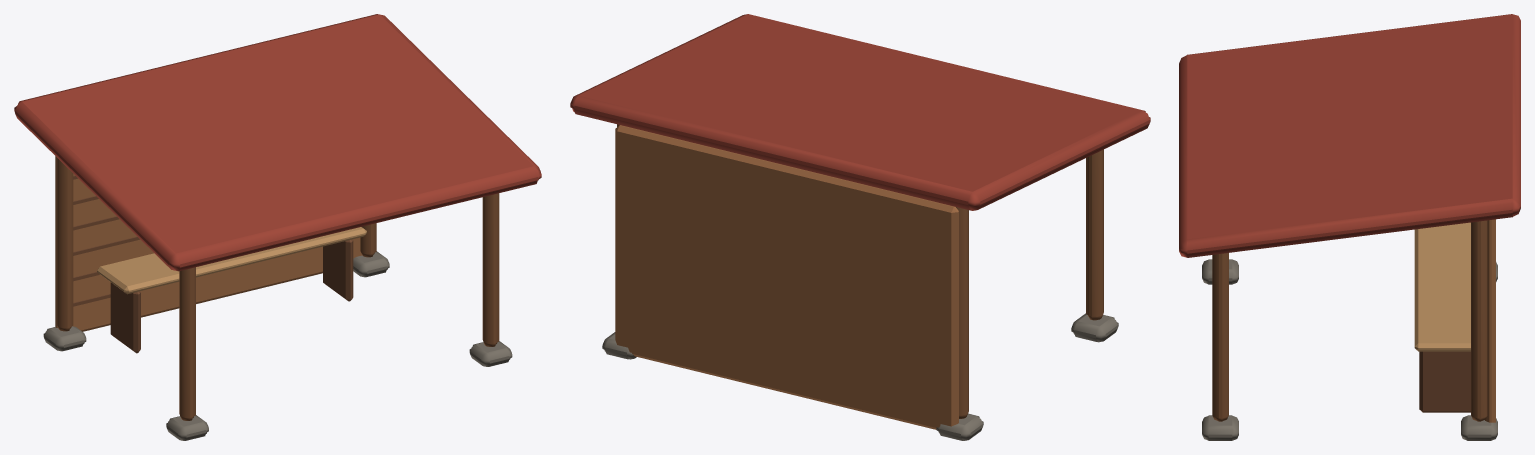
File: workshop.glb
The picture shows the model from 3 angles, left to right: view 1: azimuth 30°, elevation 25°; view 2: azimuth 150°, elevation 25°; view 3: azimuth 270°, elevation 25°; orthographic projection. The views are drawn at different scales.
Visible parts, largest first — view 1: body; view 2: body; view 3: body.
Boxes of the visible parts, box(x1,y1,x2,y2) form: body: box(14, 14, 541, 440); body: box(570, 14, 1150, 440); body: box(1179, 14, 1520, 440).
Size of the model in its own units: 4.9 by 3 by 3.7.
